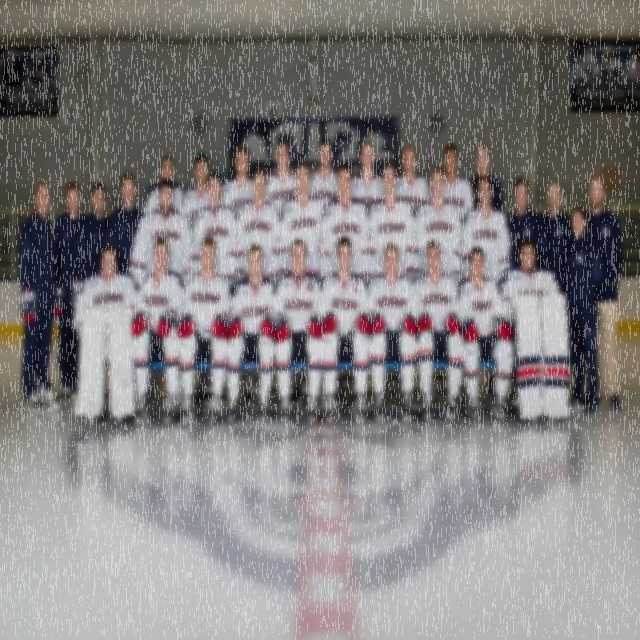pessoa: (498, 235, 570, 423), (232, 164, 282, 404), (17, 178, 64, 418), (454, 244, 517, 420), (316, 230, 373, 421), (504, 175, 550, 410), (176, 234, 233, 422), (582, 172, 625, 416), (224, 238, 280, 422), (408, 238, 464, 421), (130, 236, 184, 424), (272, 235, 326, 420), (366, 241, 420, 424), (561, 198, 605, 416), (52, 178, 89, 408), (128, 176, 195, 297), (316, 160, 378, 280), (71, 242, 140, 334), (367, 160, 418, 284), (412, 164, 464, 282), (188, 168, 238, 290), (278, 158, 326, 280), (460, 172, 512, 283), (71, 180, 109, 310), (104, 171, 148, 277), (542, 176, 578, 297), (429, 140, 476, 230), (220, 142, 268, 215), (142, 152, 188, 216), (262, 140, 298, 220), (393, 142, 433, 211), (306, 136, 342, 209), (349, 138, 385, 209), (468, 142, 504, 213), (180, 150, 210, 227), (626, 42, 640, 128), (27, 48, 55, 87), (574, 41, 600, 83), (600, 44, 623, 84)
